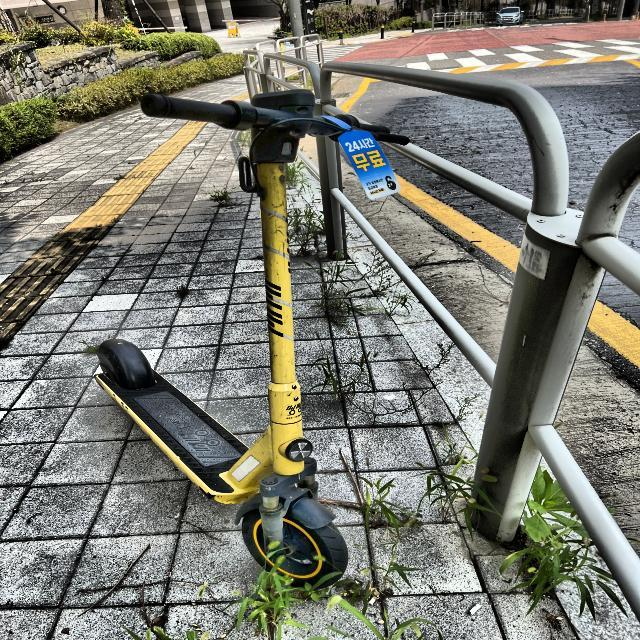bike: (96, 84, 408, 594)
car: (495, 7, 524, 26)
